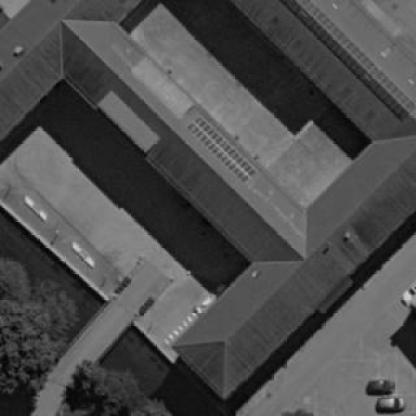solar-pv-panel: (186, 115, 258, 184)
